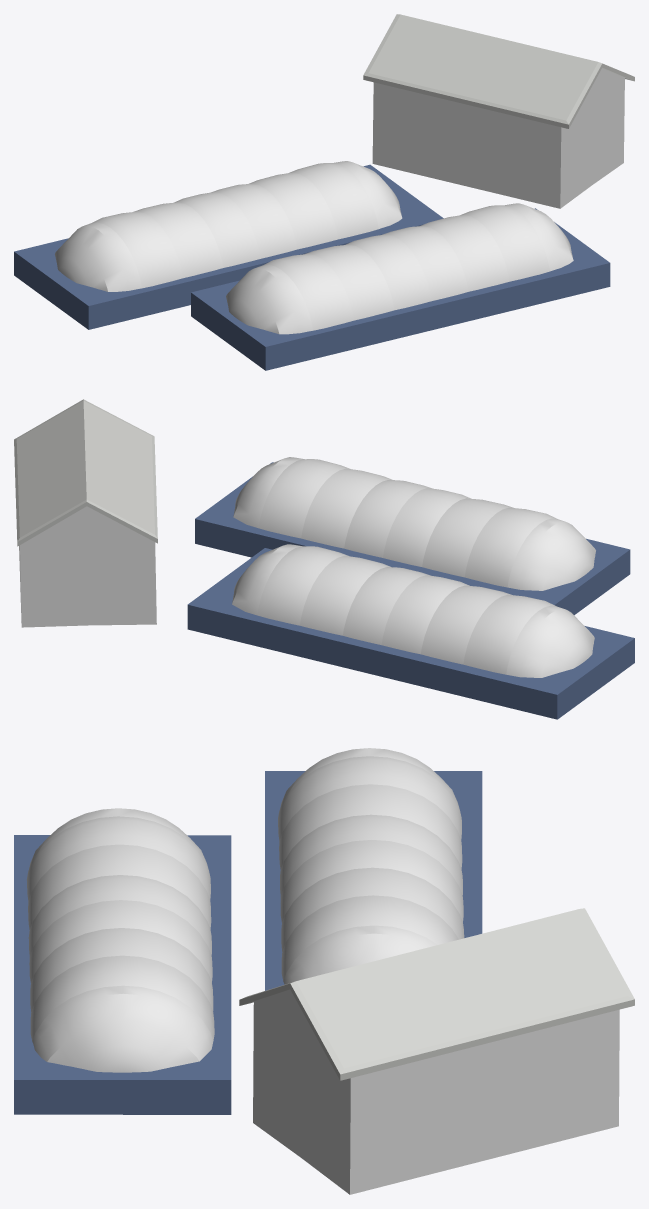
Rendered from digester.fbx.
3 views of the same model, one above another, from view 1: azimuth 30°, elevation 25°; view 2: azimuth 150°, elevation 25°; view 3: azimuth 270°, elevation 25° (orthographic). The views are drawn at different scales.
Visible parts, largest first — view 1: digester; view 2: digester; view 3: digester.
Boxes of the visible parts, box(x1,y1,x2,y2) form: digester: box(14, 14, 634, 370); digester: box(14, 399, 634, 719); digester: box(14, 748, 634, 1194).
Size of the model in its own units: 0.7907 by 0.177 by 0.5106.
